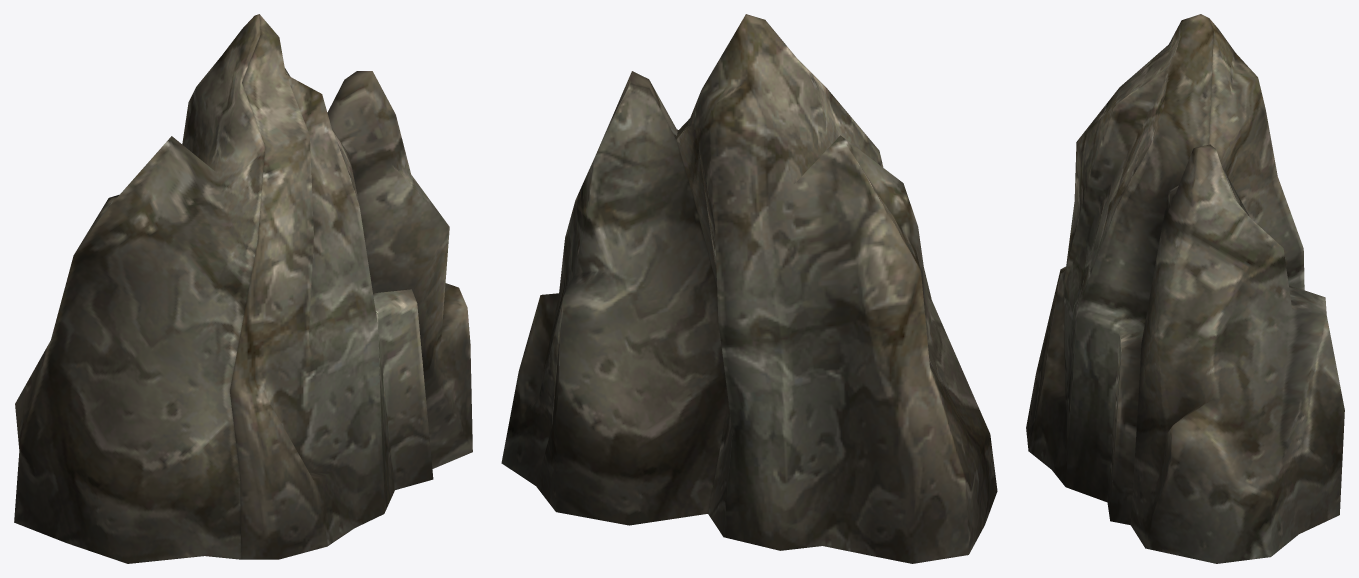
File: stone_061.FBX
The picture shows the model from 3 angles, left to right: view 1: azimuth 30°, elevation 25°; view 2: azimuth 150°, elevation 25°; view 3: azimuth 270°, elevation 25°; orthographic projection. The views are drawn at different scales.
Visible parts, largest first — view 1: stone_061_01; view 2: stone_061_01; view 3: stone_061_01.
Part boxes in pixels (x1,y1,x2,y2): stone_061_01: (14,14,472,563); stone_061_01: (501,14,997,563); stone_061_01: (1026,14,1344,563).
Bounding box in the file's own units: 15.26 × 14.94 × 9.65.
